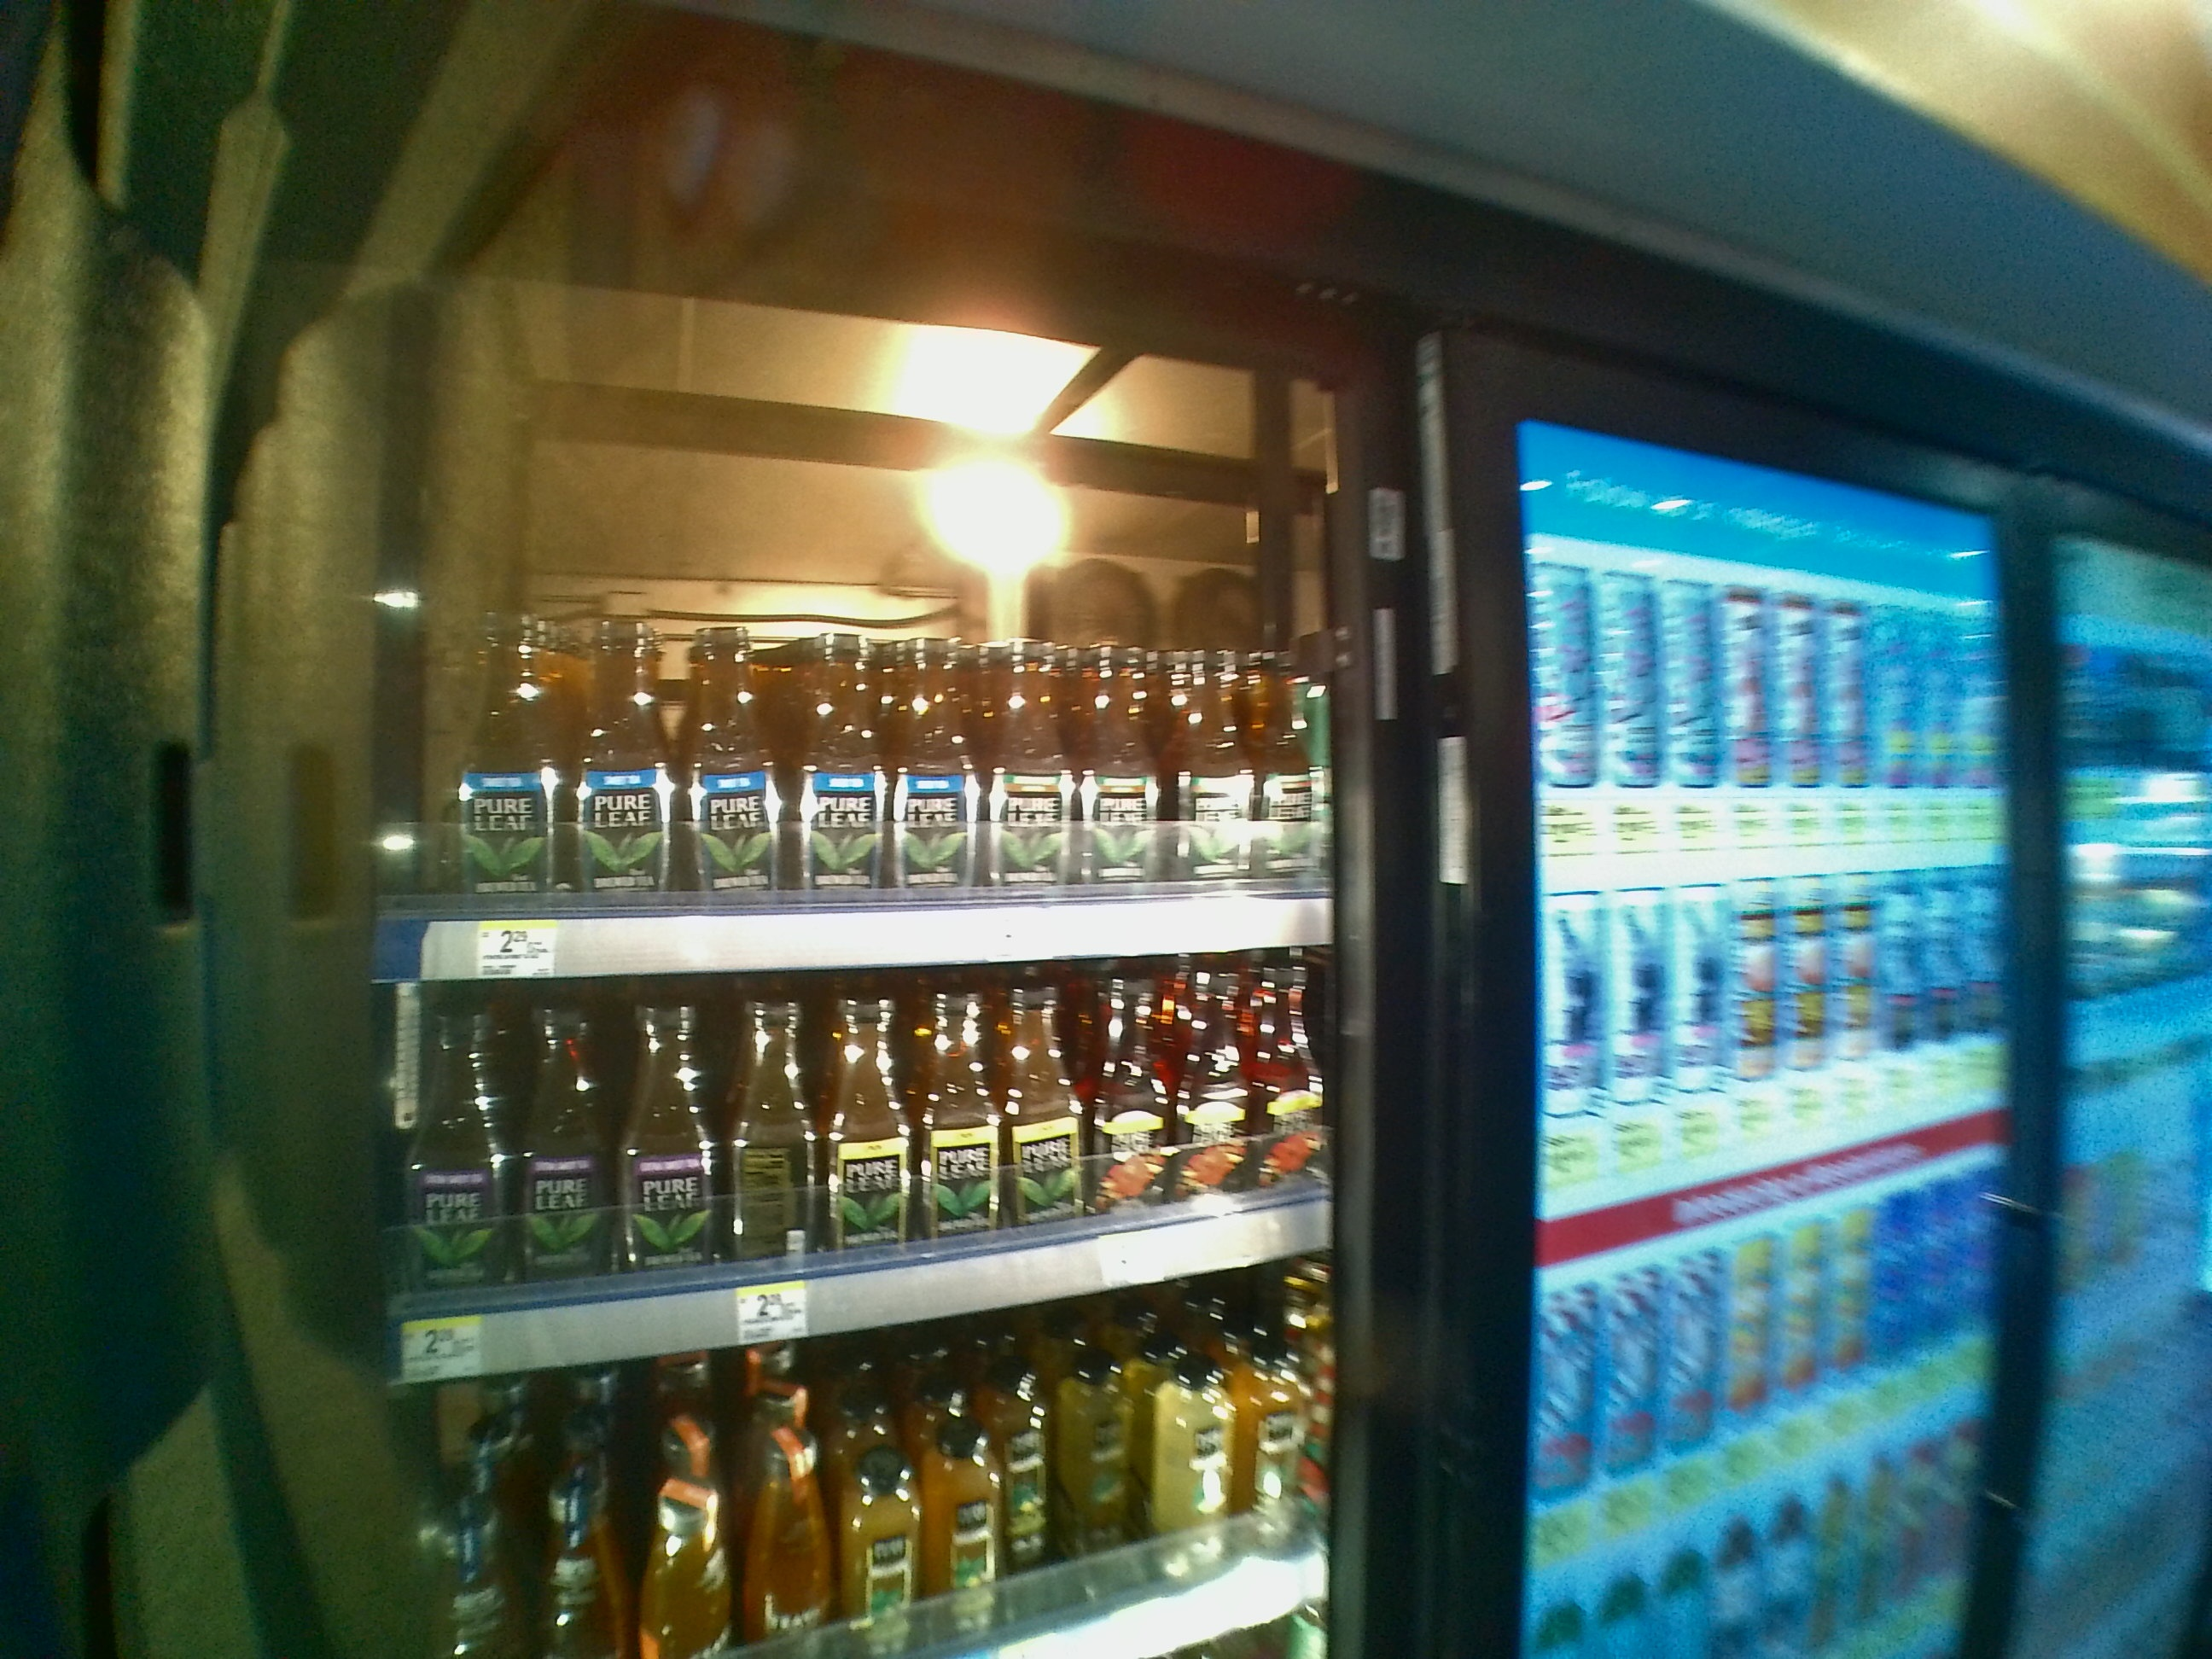shelf: (371, 385, 1331, 979), (369, 988, 1343, 1382)
